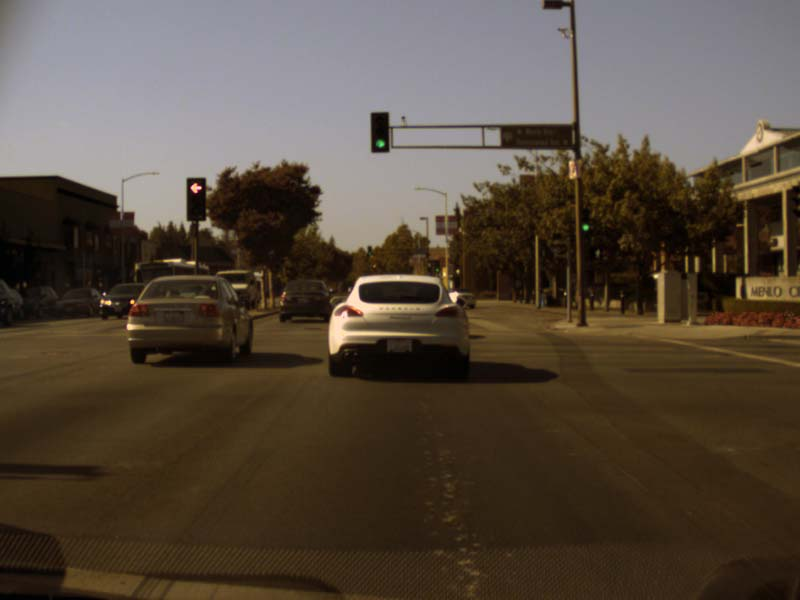Green: (369, 112, 389, 152), (580, 210, 589, 235), (367, 246, 371, 255)
Red: (186, 177, 204, 221)
